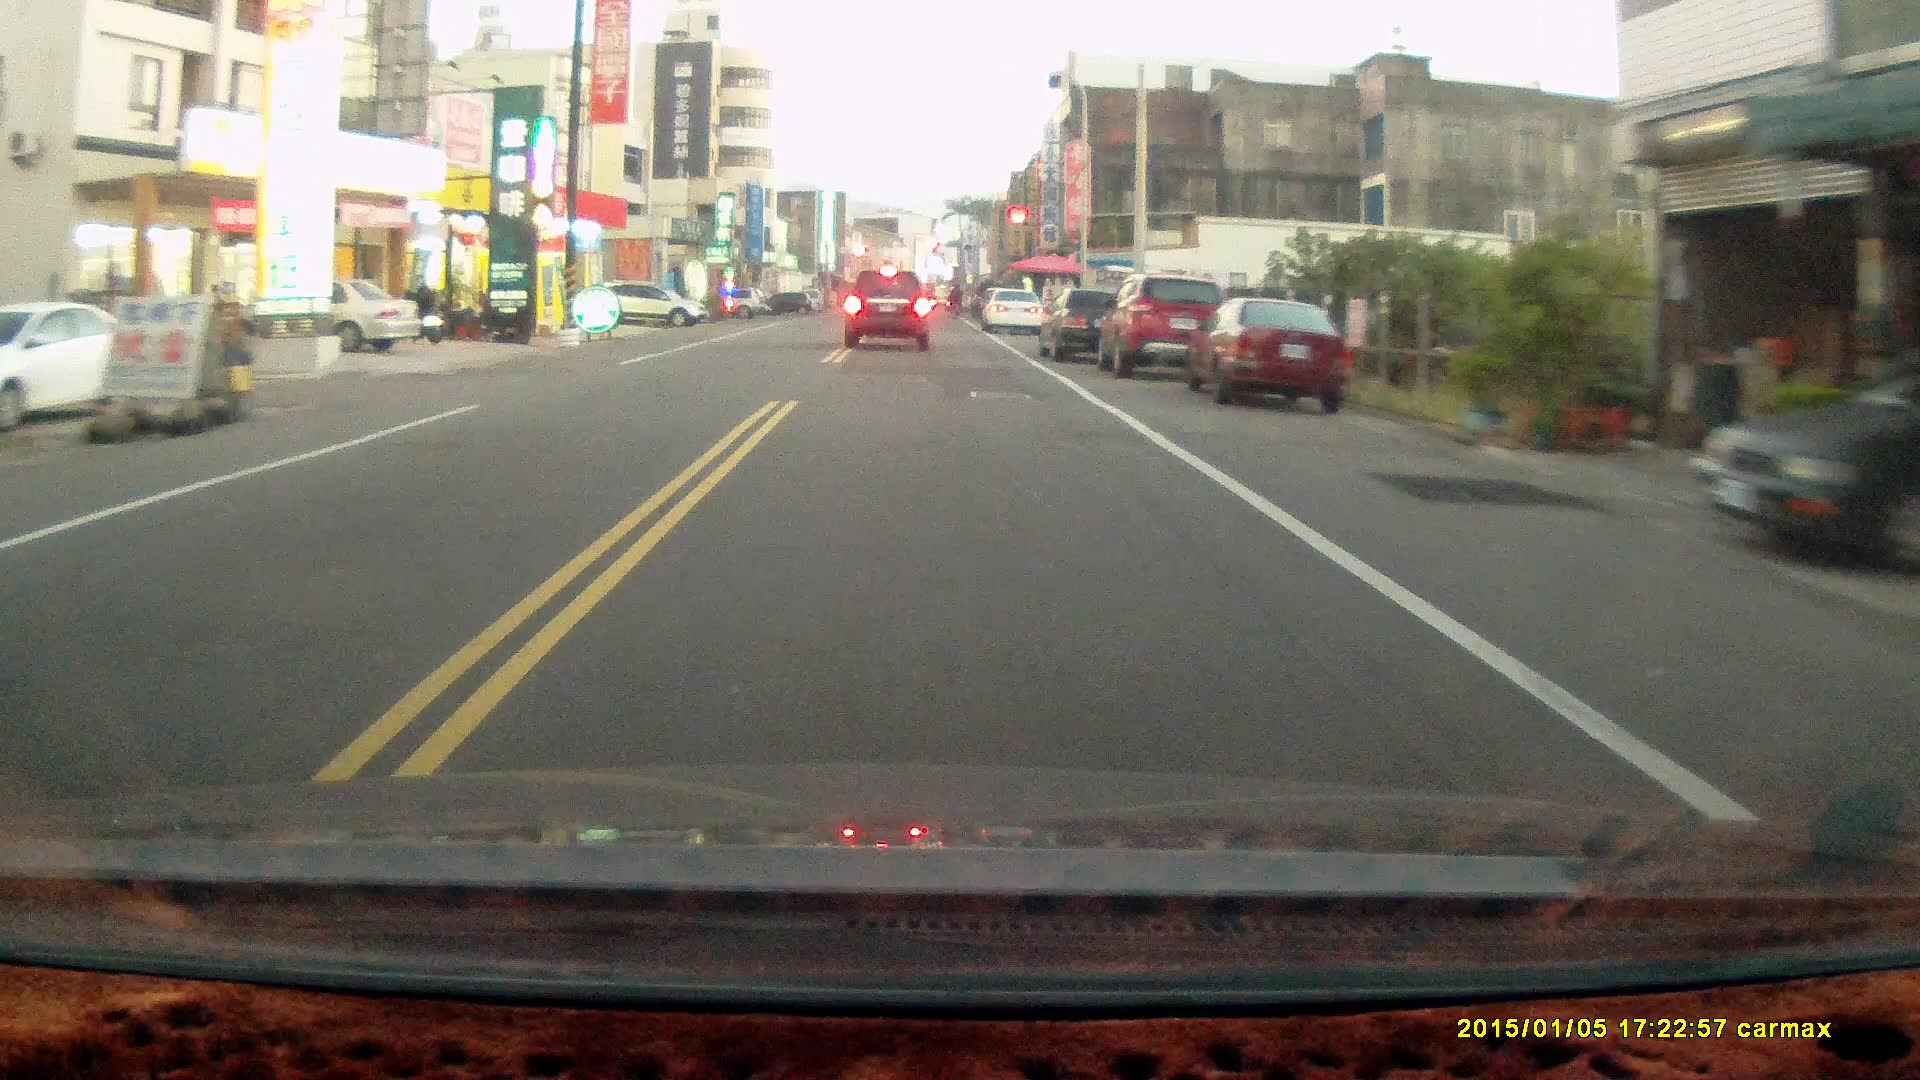vehicle: (1691, 349, 1920, 574), (3, 301, 166, 427), (1182, 299, 1356, 415), (1098, 276, 1232, 381), (243, 278, 423, 355), (1039, 291, 1153, 365), (844, 272, 934, 355), (603, 281, 703, 330), (982, 289, 1047, 339)
